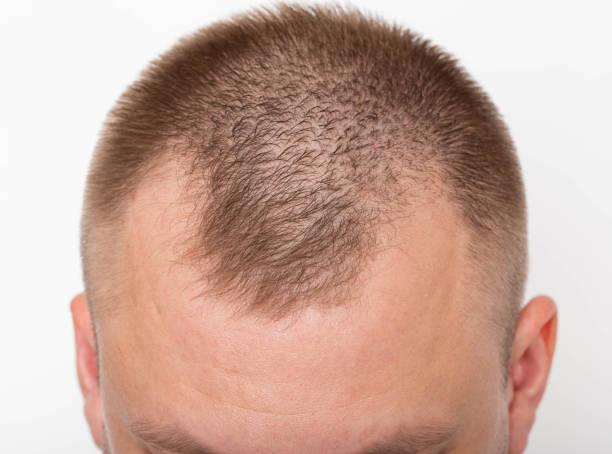low hair density: (229, 53, 388, 185), (167, 92, 214, 143), (395, 115, 431, 181)
